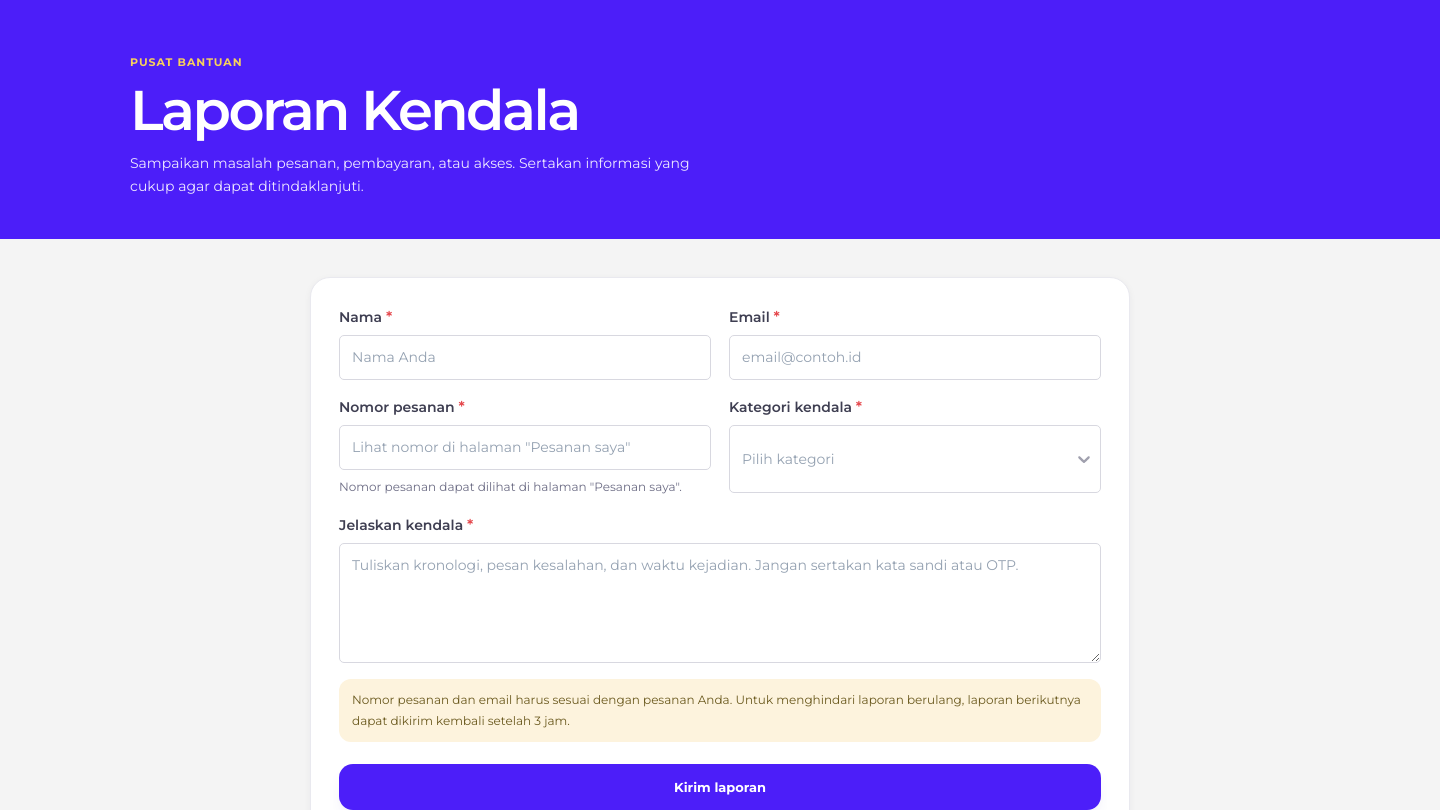
Test: halaman Laporan Kendala › memvalidasi field wajib sebelum menghubungi backend
The width and height of the screenshot is (1440, 810).
Click the button "Kirim laporan": point(720, 787) x1=339 y1=764 x2=1101 y2=809
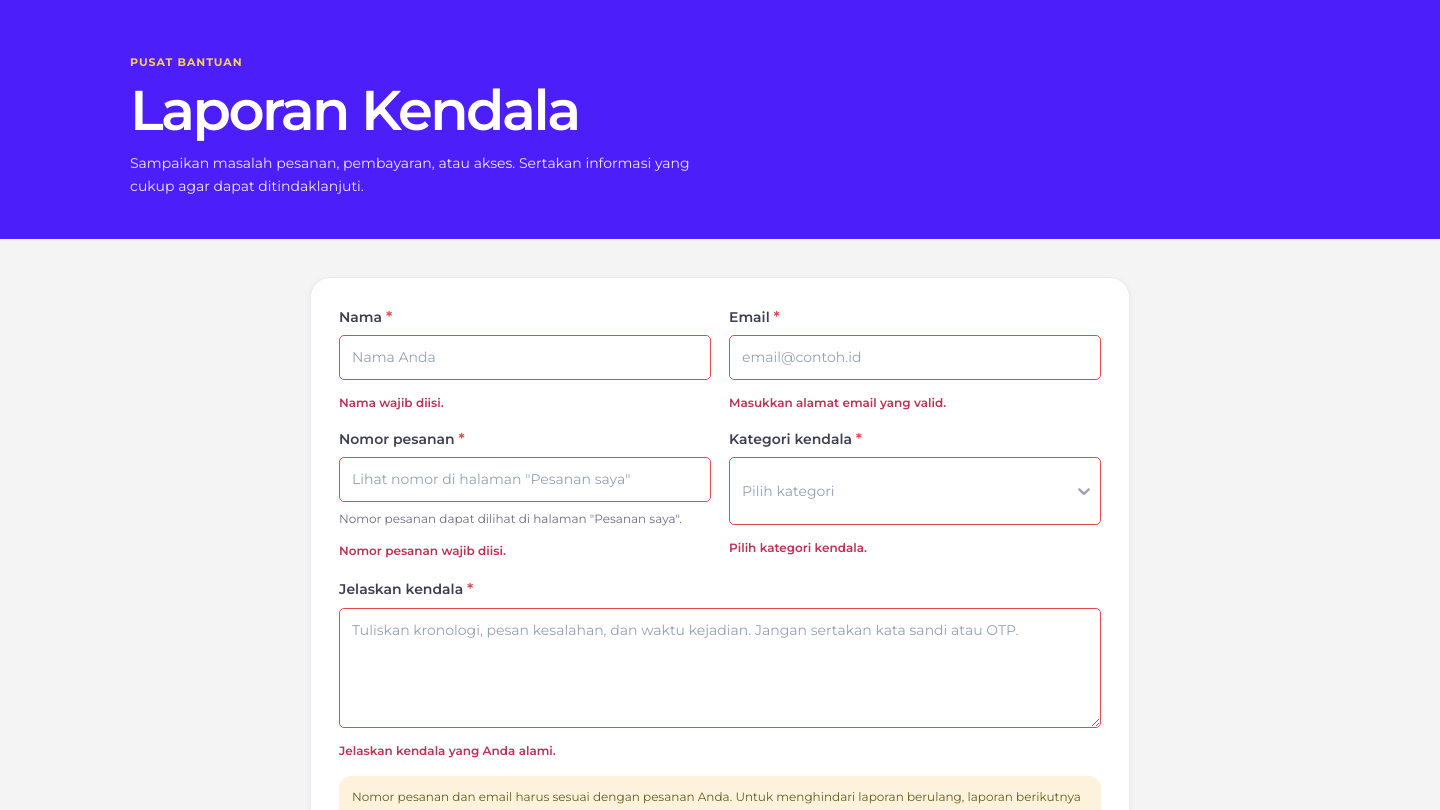
expect the text "Nama wajib diisi." is shown: met, box x1=339 y1=395 x2=444 y2=410
expect the text "Nomor pesanan wajib diisi." is shown: met, box x1=339 y1=543 x2=506 y2=558
